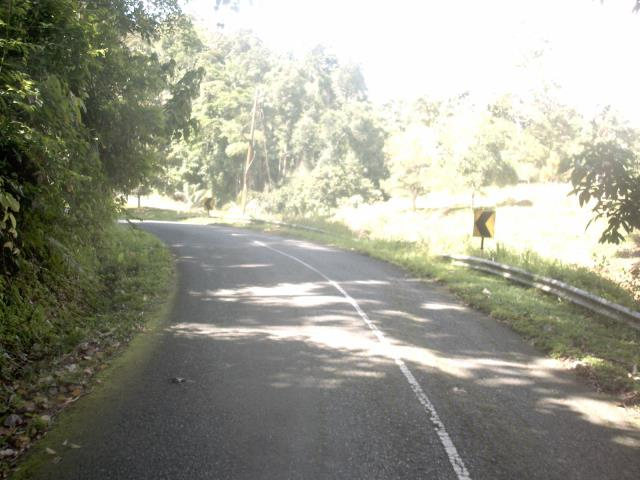traffic_sign: (466, 202, 502, 247)
